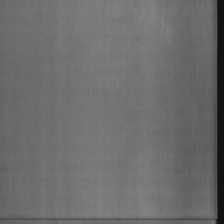welding_line: (1, 215, 222, 222)
